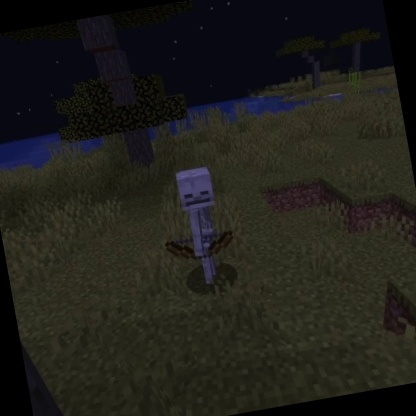skeleton: (149, 159, 246, 295)
